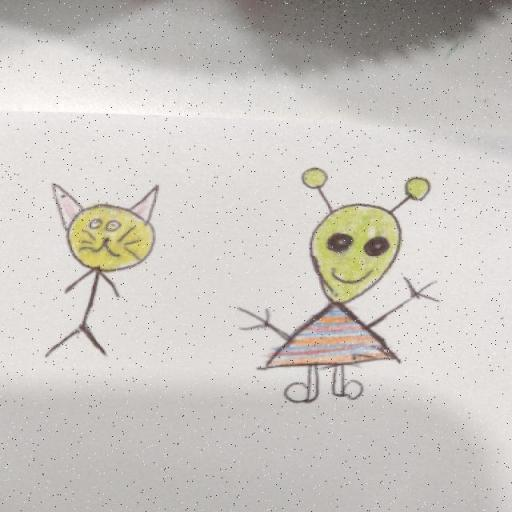person: (249, 161, 451, 424)
